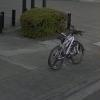Bicycle: (40, 26, 88, 75)
